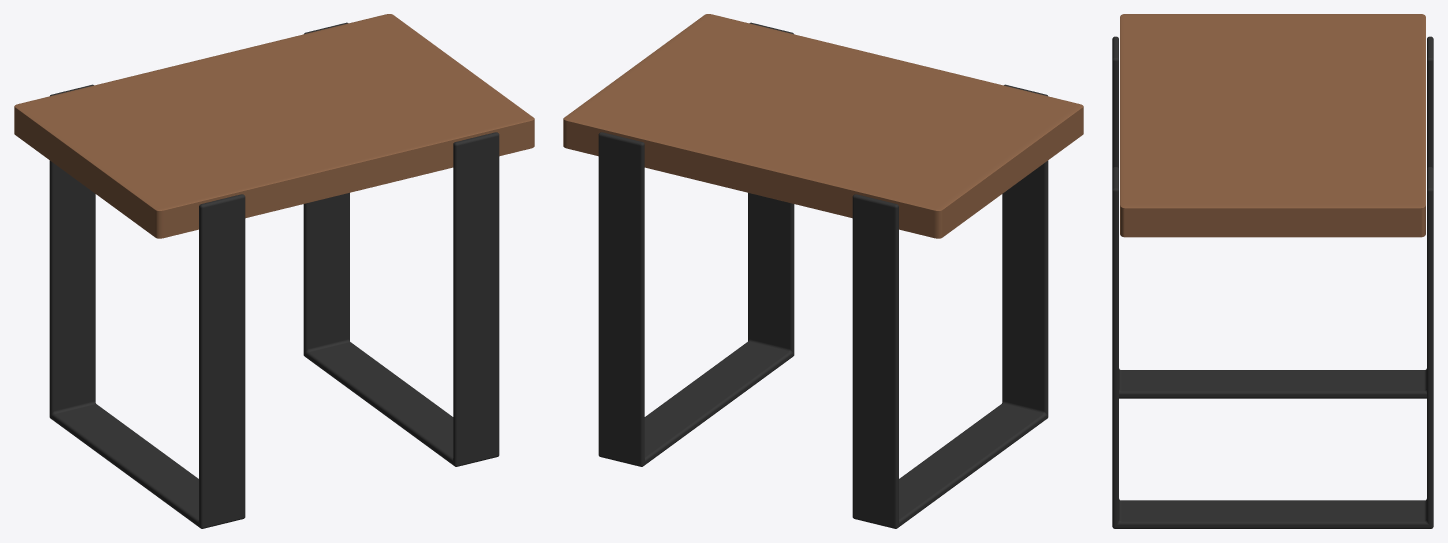
Rendered from SmallTable.glb.
The picture shows the model from 3 angles, left to right: view 1: azimuth 30°, elevation 25°; view 2: azimuth 150°, elevation 25°; view 3: azimuth 270°, elevation 25°; orthographic projection. The views are drawn at different scales.
Visible parts, largest first — view 1: Cube.001, Cube.002; view 2: Cube.001, Cube.002; view 3: Cube.001, Cube.002.
Part boxes in pixels (bbox=[...]): Cube.001: bbox=[14, 14, 534, 238]; Cube.002: bbox=[49, 22, 499, 528]; Cube.001: bbox=[563, 14, 1083, 238]; Cube.002: bbox=[598, 22, 1048, 528]; Cube.001: bbox=[1120, 14, 1425, 237]; Cube.002: bbox=[1112, 36, 1433, 528].
Bounding box in the file's own units: 0.6129 × 0.5042 × 0.4286.
